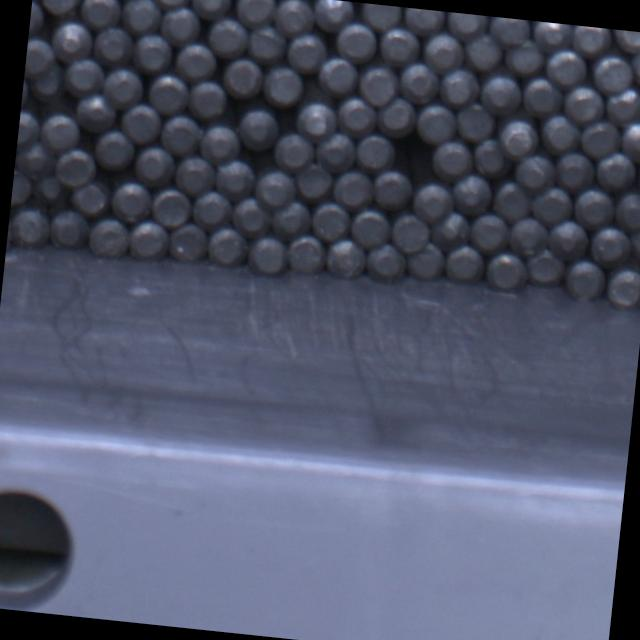tool: (236, 106, 280, 151), (102, 66, 146, 110), (50, 18, 94, 62), (94, 128, 138, 172), (208, 17, 252, 60), (147, 71, 190, 115), (160, 112, 203, 156), (451, 172, 494, 216), (478, 72, 522, 115), (86, 215, 130, 258), (412, 179, 456, 222), (369, 167, 413, 210), (373, 95, 416, 138), (348, 205, 391, 248), (572, 186, 615, 229), (422, 30, 465, 73), (416, 101, 459, 144), (397, 60, 440, 103), (546, 219, 590, 261), (134, 146, 178, 188), (64, 54, 108, 96), (75, 92, 120, 133), (356, 62, 398, 105), (119, 101, 162, 143), (543, 46, 586, 88), (214, 160, 257, 202), (109, 180, 152, 222), (174, 154, 217, 196), (206, 225, 249, 267), (127, 220, 170, 262), (324, 237, 366, 280), (198, 123, 240, 166), (46, 207, 88, 250), (54, 147, 98, 188), (295, 99, 339, 140), (150, 185, 192, 227), (310, 199, 352, 241), (190, 189, 232, 231), (312, 130, 354, 172), (222, 56, 264, 98), (316, 54, 358, 96), (167, 221, 209, 263), (540, 112, 582, 154), (565, 258, 607, 300), (588, 224, 630, 266), (496, 116, 538, 158), (287, 31, 329, 73), (364, 240, 406, 282), (432, 138, 474, 180), (285, 233, 327, 275), (14, 138, 56, 180), (336, 21, 379, 62), (263, 64, 306, 105), (522, 75, 565, 116), (160, 2, 203, 43), (270, 198, 313, 239), (594, 152, 638, 192), (484, 250, 528, 290), (591, 53, 633, 94), (454, 101, 496, 142), (530, 185, 572, 226), (508, 216, 550, 257), (378, 25, 420, 66), (492, 179, 533, 221), (442, 243, 484, 284), (336, 95, 378, 136), (186, 78, 227, 120), (563, 84, 606, 124), (272, 130, 315, 170), (174, 41, 217, 81), (255, 168, 298, 208), (437, 66, 480, 106), (231, 195, 272, 236), (36, 110, 78, 150), (354, 132, 396, 172), (555, 150, 597, 190), (332, 168, 374, 208), (248, 24, 290, 64), (466, 212, 508, 252), (92, 24, 134, 64), (470, 136, 510, 178), (580, 119, 620, 160), (391, 212, 432, 252), (464, 32, 505, 72), (525, 247, 567, 286), (248, 234, 288, 274), (132, 32, 172, 72), (406, 240, 446, 280), (514, 152, 556, 190), (293, 164, 333, 203), (428, 210, 469, 248), (506, 38, 546, 76), (602, 86, 640, 126), (274, 0, 316, 36), (605, 266, 640, 308), (121, 0, 163, 35), (24, 37, 58, 80), (70, 180, 110, 216), (13, 210, 48, 247), (79, 0, 123, 29), (489, 16, 531, 46), (446, 12, 488, 41), (310, 0, 352, 29), (359, 2, 402, 30), (571, 25, 611, 55), (532, 20, 572, 50), (402, 7, 444, 35), (612, 190, 640, 232), (234, 0, 275, 28), (618, 119, 640, 162), (16, 111, 40, 150), (190, 0, 233, 20), (11, 168, 34, 204), (28, 0, 45, 40), (611, 29, 640, 52), (40, 0, 82, 15), (628, 220, 640, 262), (630, 46, 640, 86), (149, 0, 191, 7)
void: (386, 132, 436, 179)
